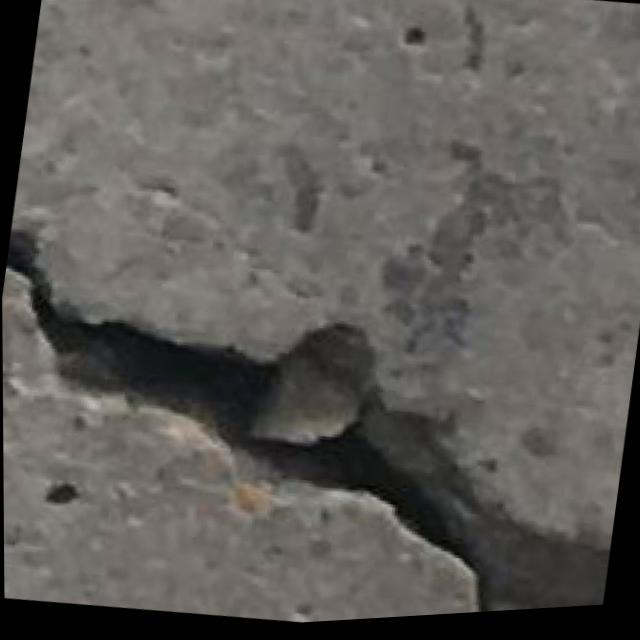Crack: (1, 196, 640, 640)
